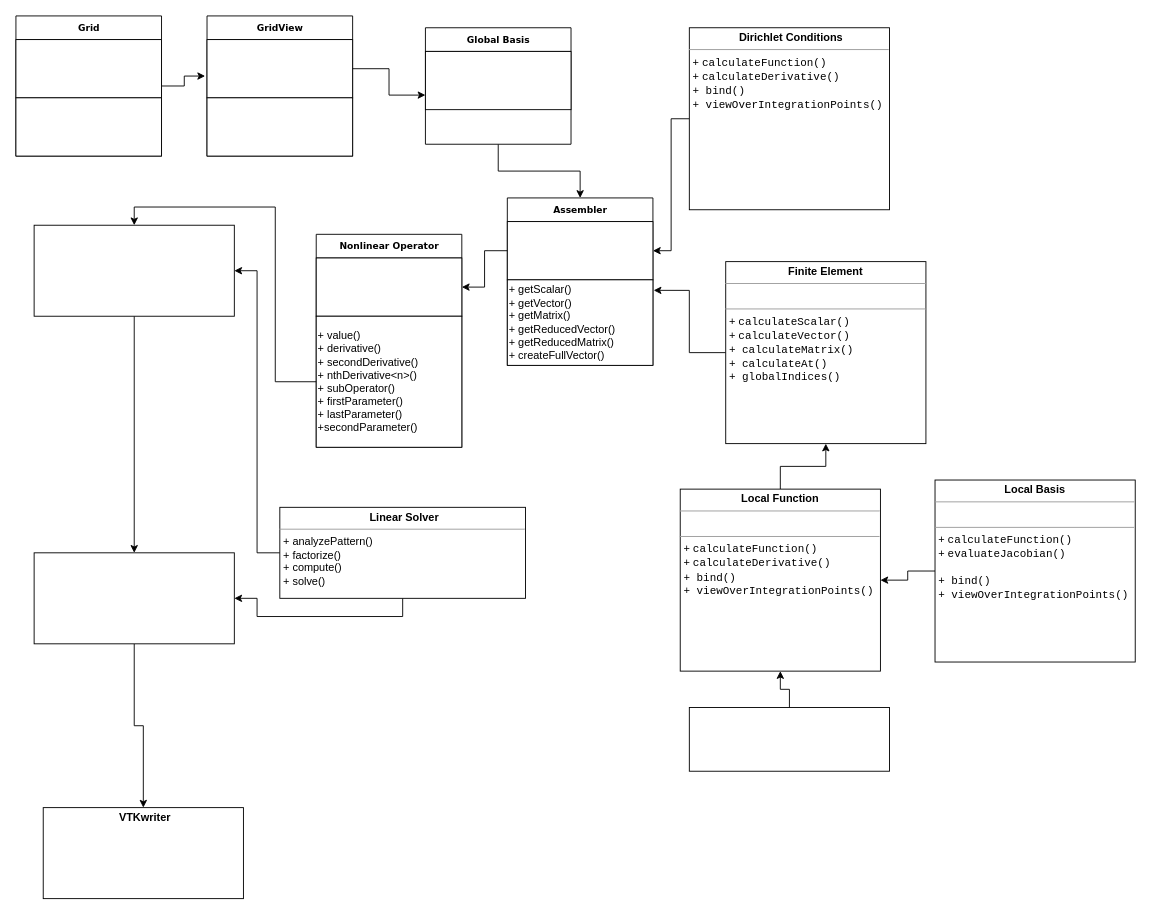
Image size: 1151x915. Some labels were removed from this diagram. Here are the shapes that lost their labels. From the top down, the centre of each, then its label:
the point at 279,126: + elements(gv) + vertices(gv) + edges(gv) + surfaces(gv)
the point at 133,270: Nonlinear Solver + setup() + solve() + nonLinearOperator()
the point at 133,598: Control Routine +run()
the point at 789,739: Manifold
